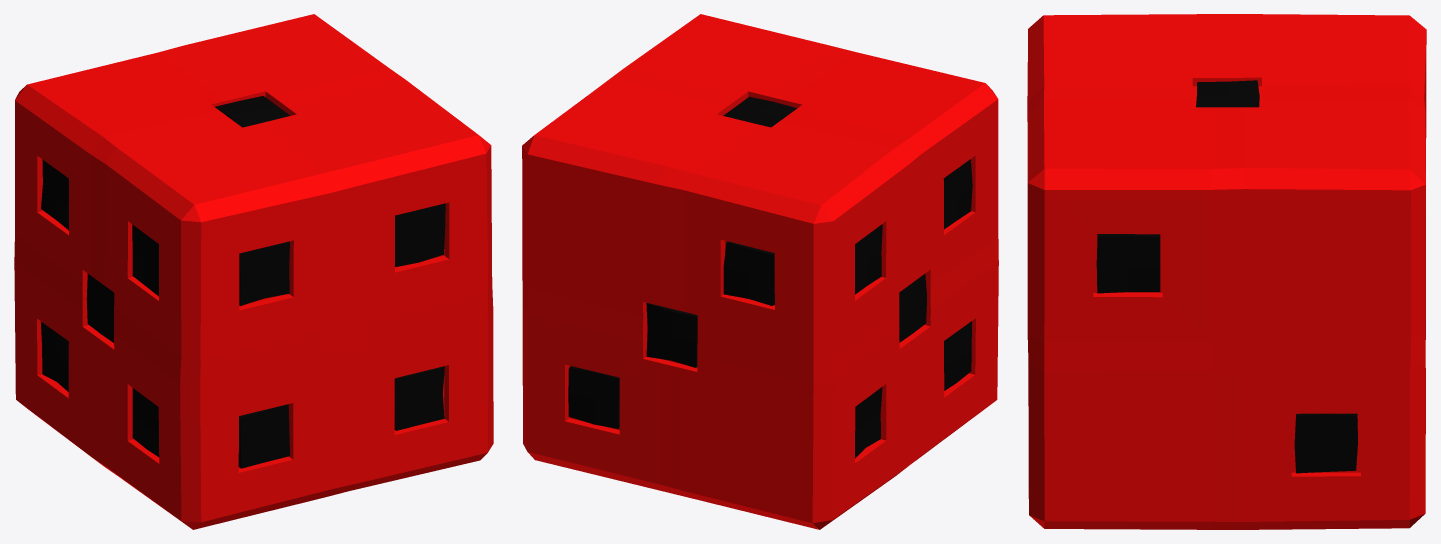
Rendered from dice_red.gltf.
3 renders of one model, left to right at view 1: azimuth 30°, elevation 25°; view 2: azimuth 150°, elevation 25°; view 3: azimuth 270°, elevation 25°, orthographic. The views are drawn at different scales.
Visible parts, largest first — view 1: D6_Dice_Red; view 2: D6_Dice_Red; view 3: D6_Dice_Red.
Part boxes in pixels (x1,y1,x2,y2): D6_Dice_Red: (14, 14, 493, 529); D6_Dice_Red: (522, 14, 998, 529); D6_Dice_Red: (1027, 14, 1426, 529).
Size of the model in its own units: 2.02 by 2.02 by 2.01.
